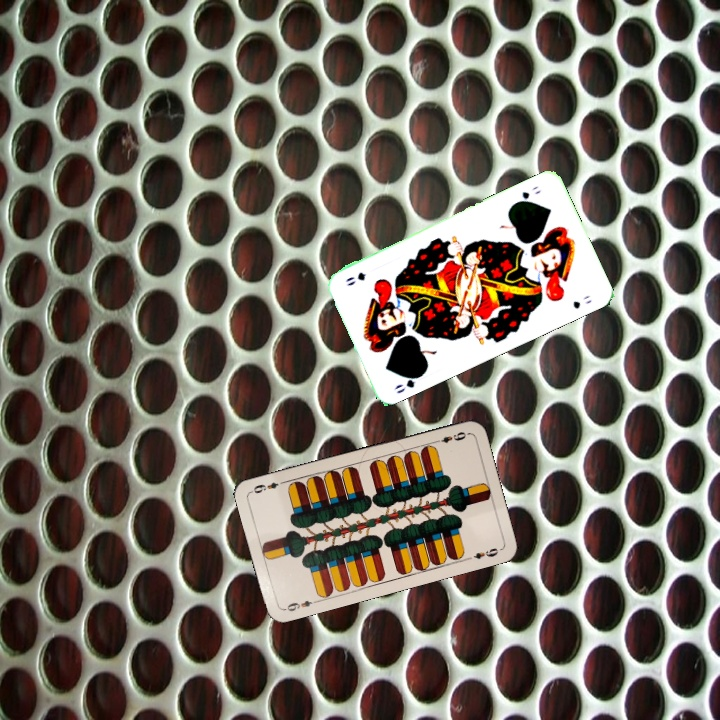E9: (430, 428, 470, 446), (280, 596, 320, 614)
GO: (390, 369, 426, 396), (511, 182, 543, 207)
